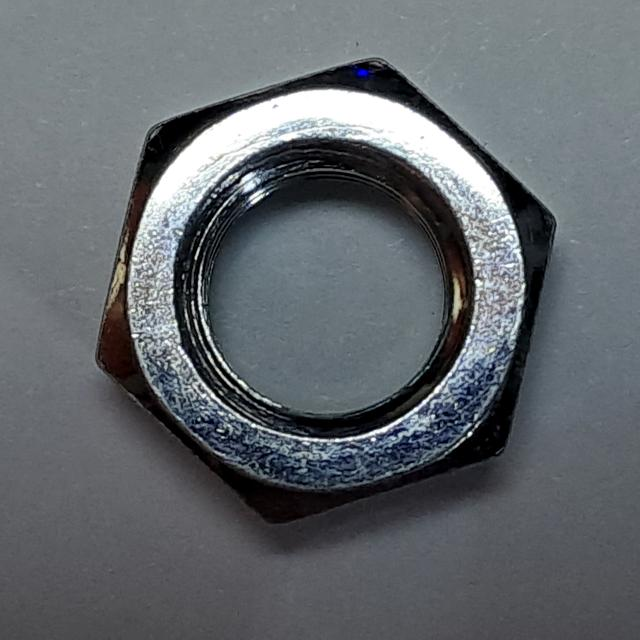Excellent: (83, 51, 576, 536)
